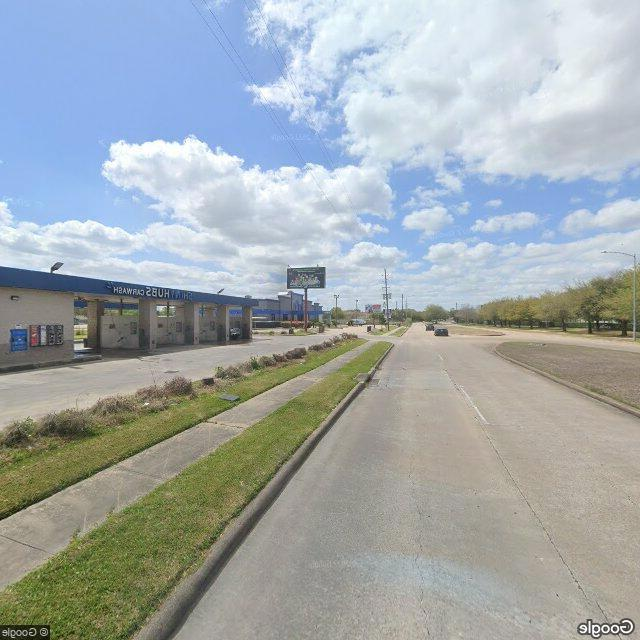pothole: (399, 431, 438, 635)
